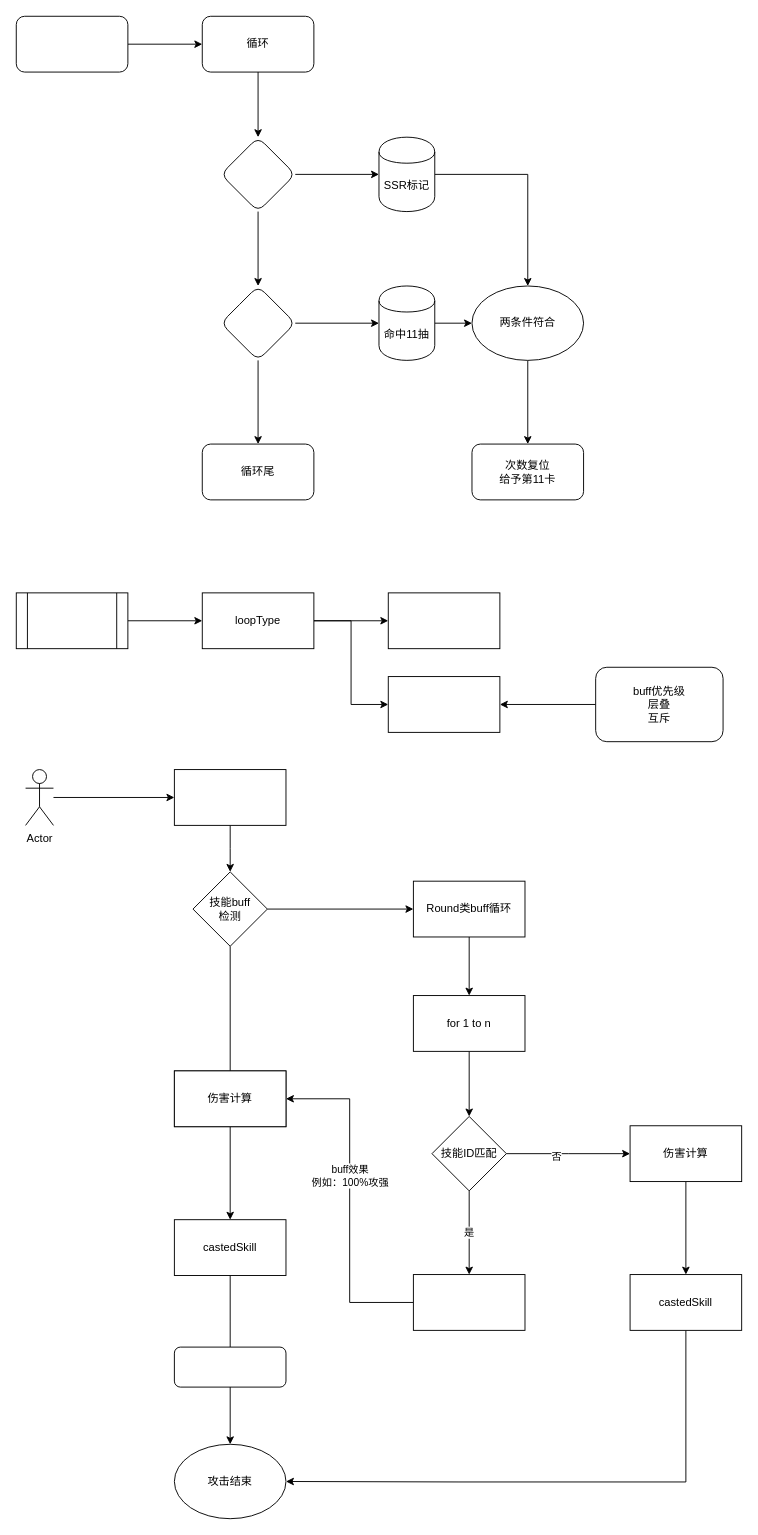
Some shapes in this 758 by 1535 pixel diagram are drawn without their labels. Each missing label, with the box of its shape:
10连抽: (15, 15, 128, 72)
buff: (15, 592, 128, 649)
castSkill: (173, 769, 286, 825)
去除buff 重算属性: (173, 1346, 286, 1387)
回合制 RoundLoop [round, skillId]: (387, 676, 500, 732)
实时游戏心跳 TimeLoop: (387, 592, 500, 649)
是否SSR: (220, 136, 295, 212)
是否第50次: (220, 285, 295, 360)
附加buff 重算属性: (412, 1274, 525, 1330)
